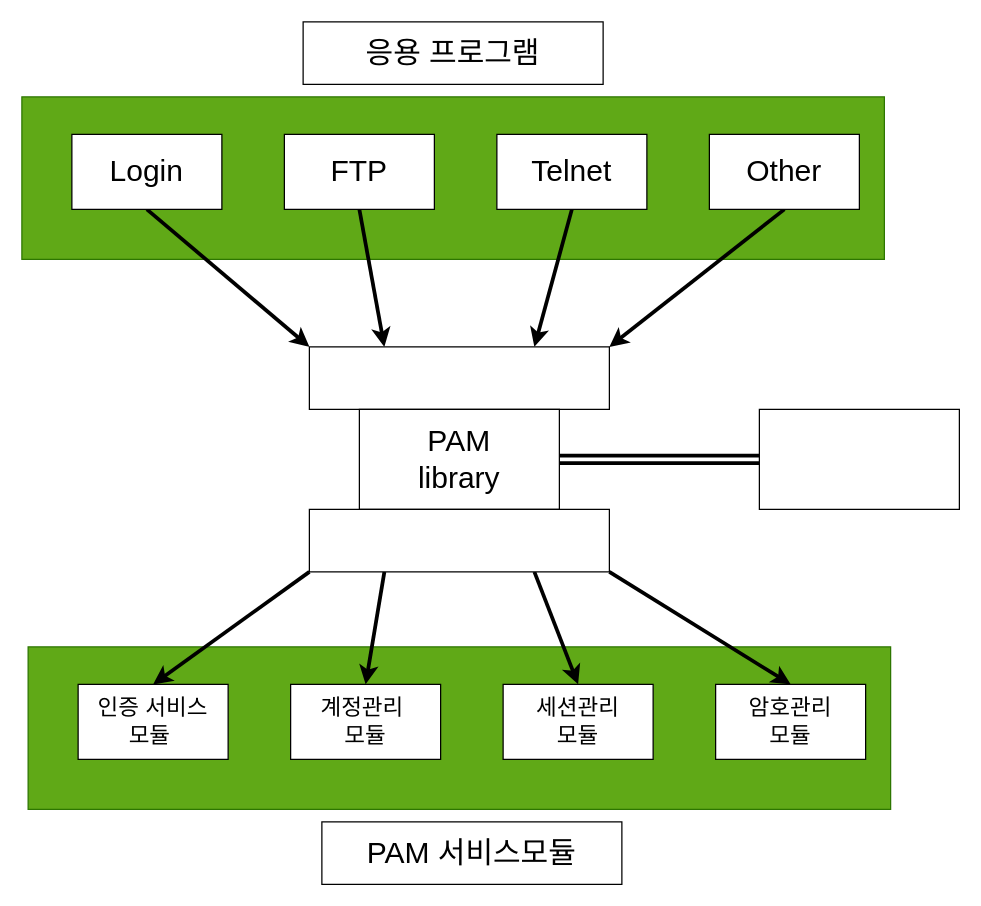
Some shapes in this 981 by 906 pixel diagram are drawn without their labels. The centre of each missing label's shape, as x and y in pixels:
PAM API: pixel 458 377
PAM SPI: pixel 458 540
PAM.conf: pixel 858 458
